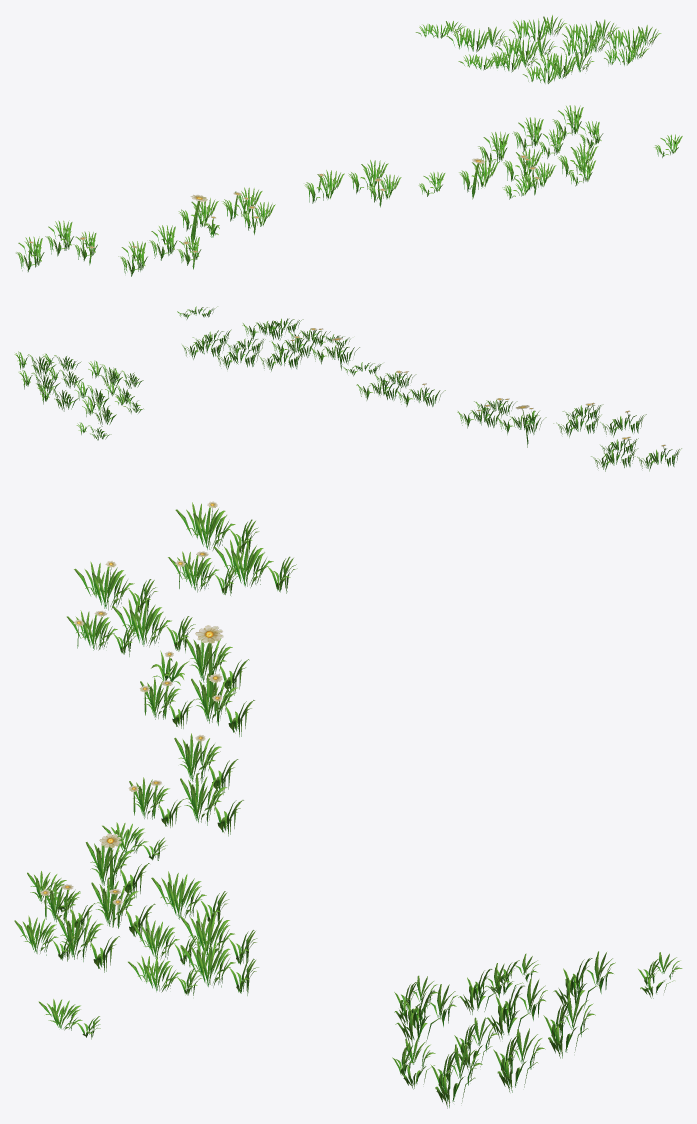
Rendered from huahua_11.fbx.
3 views of the same model, one above another, from view 1: azimuth 30°, elevation 25°; view 2: azimuth 150°, elevation 25°; view 3: azimuth 270°, elevation 25° (orthographic). The views are drawn at different scales.
Visible parts, largest first — view 1: polySurface4270; view 2: polySurface4270; view 3: polySurface4270.
Boxes of the visible parts, left/top/right/bottom form: polySurface4270: left=16, top=15, right=682, bottom=276; polySurface4270: left=14, top=306, right=681, bottom=471; polySurface4270: left=14, top=501, right=682, bottom=1108.
Bounding box in the file's own units: 4096 × 271 × 1994.
